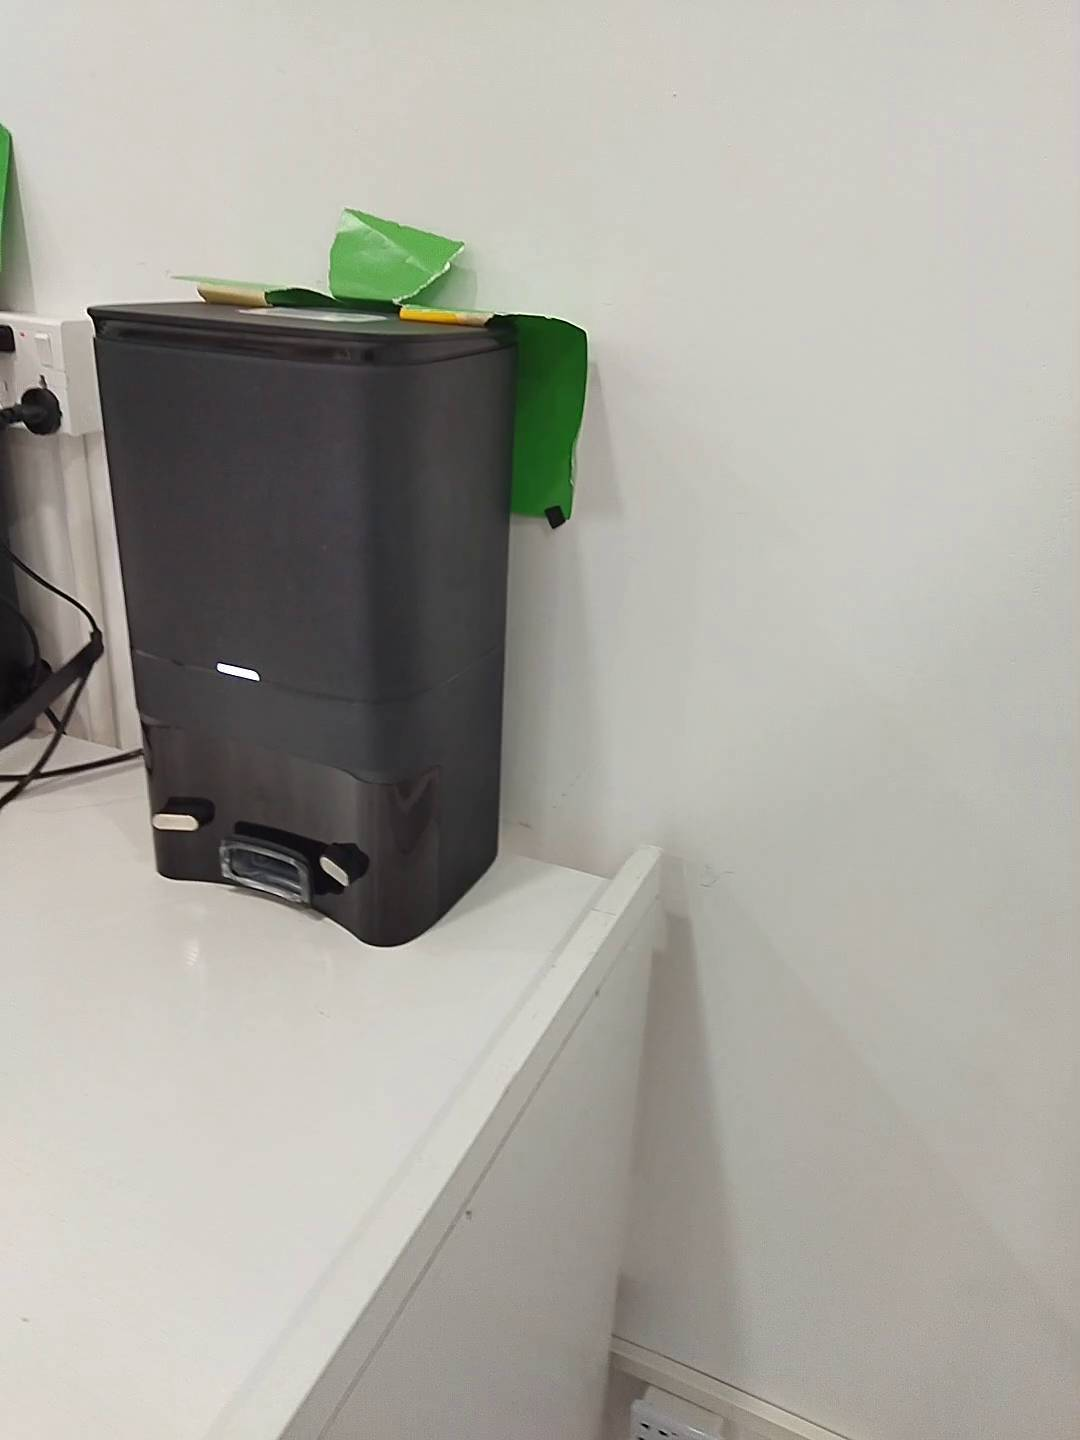dust collecting barrel: (82, 299, 516, 951)
